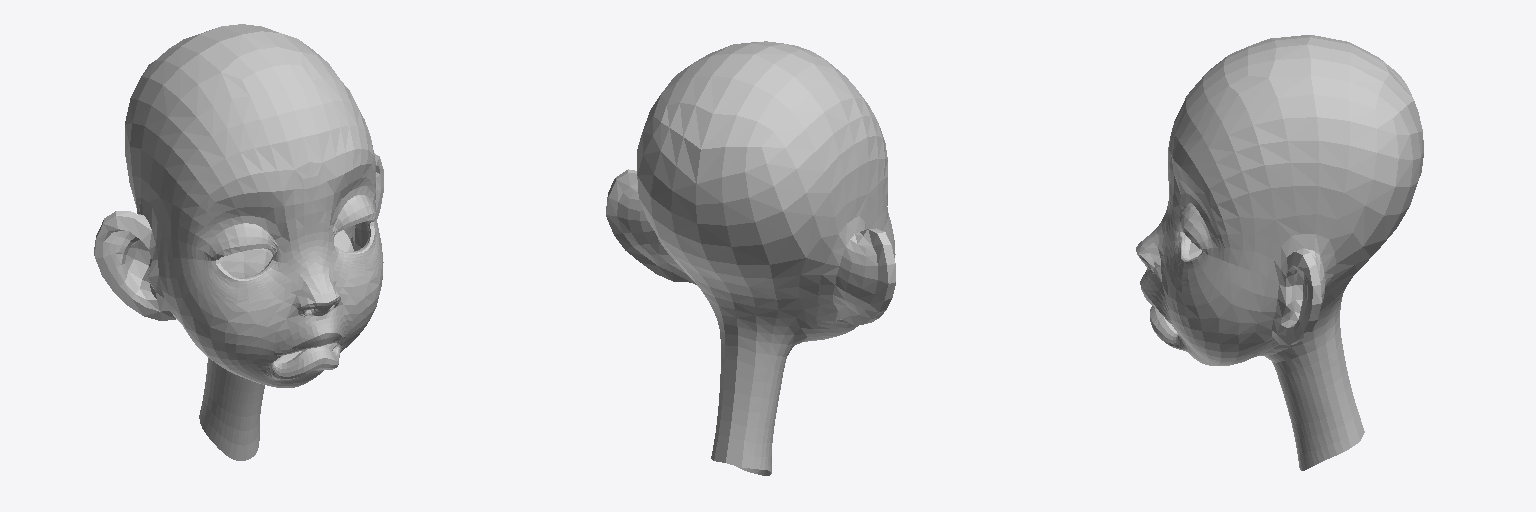
The model's file is lowerLipDepressor.obj.
3 renders of one model, left to right at view 1: azimuth 30°, elevation 25°; view 2: azimuth 150°, elevation 25°; view 3: azimuth 270°, elevation 25°, orthographic.
Parts seen in each view (by area): view 1: ZBrushPolyMesh3D; view 2: ZBrushPolyMesh3D; view 3: ZBrushPolyMesh3D.
Part boxes in pixels (x1,y1,x2,y2): ZBrushPolyMesh3D: (94,24,383,460); ZBrushPolyMesh3D: (606,41,895,475); ZBrushPolyMesh3D: (1136,35,1423,470).
Size of the model in its own units: 5.74 by 8.03 by 4.96.